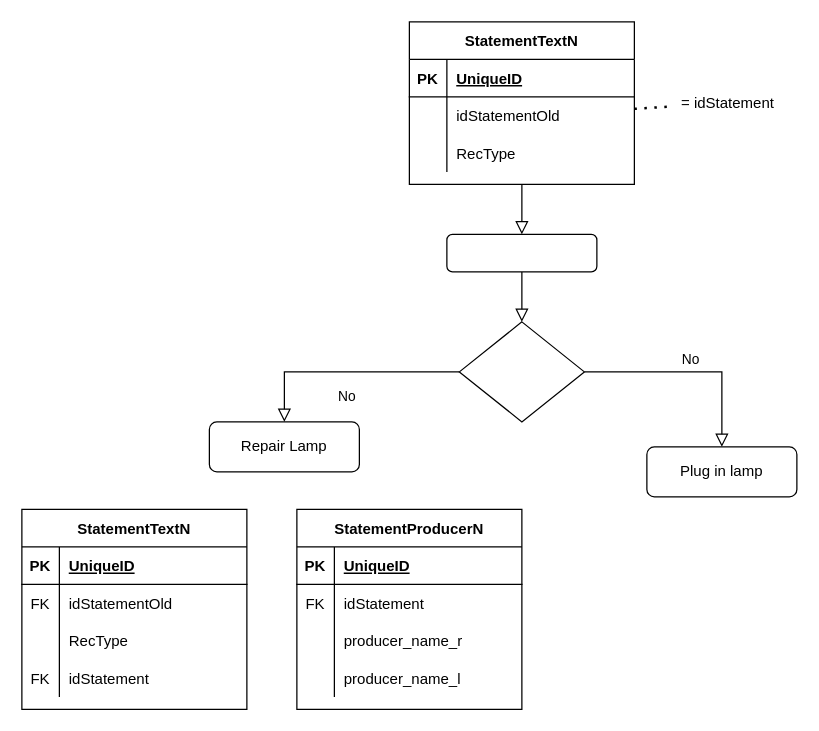
This 819x731 diagram has some shape labels left out. Here are the shapes that lost their labels. From the top down, the centre of each, then its label:
At (521,252): "isFS = RecType != 1".
At (521,371): "isFS".
